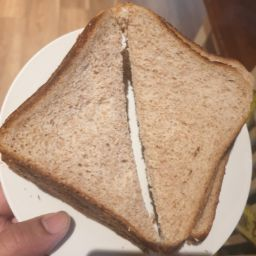Breads: (29, 1, 256, 256), (3, 61, 133, 253), (89, 7, 256, 109), (186, 109, 246, 247)
